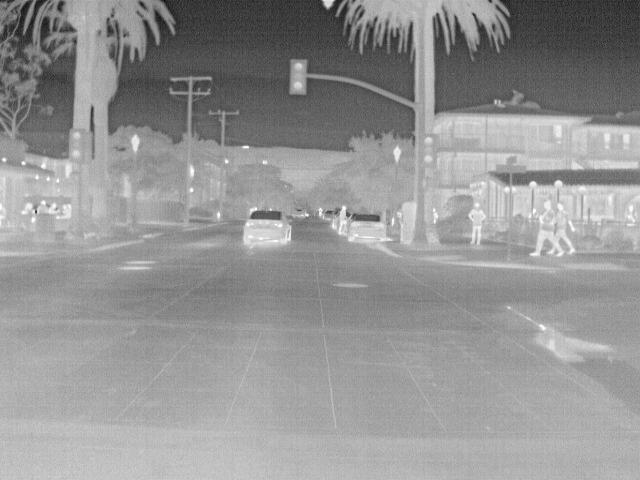car: (243, 209, 294, 244), (347, 211, 389, 242), (322, 209, 334, 221)
person: (526, 199, 563, 258), (554, 199, 577, 253), (466, 200, 488, 246), (337, 204, 352, 234), (623, 204, 637, 224), (19, 200, 36, 216), (33, 198, 48, 214), (44, 200, 60, 214)
